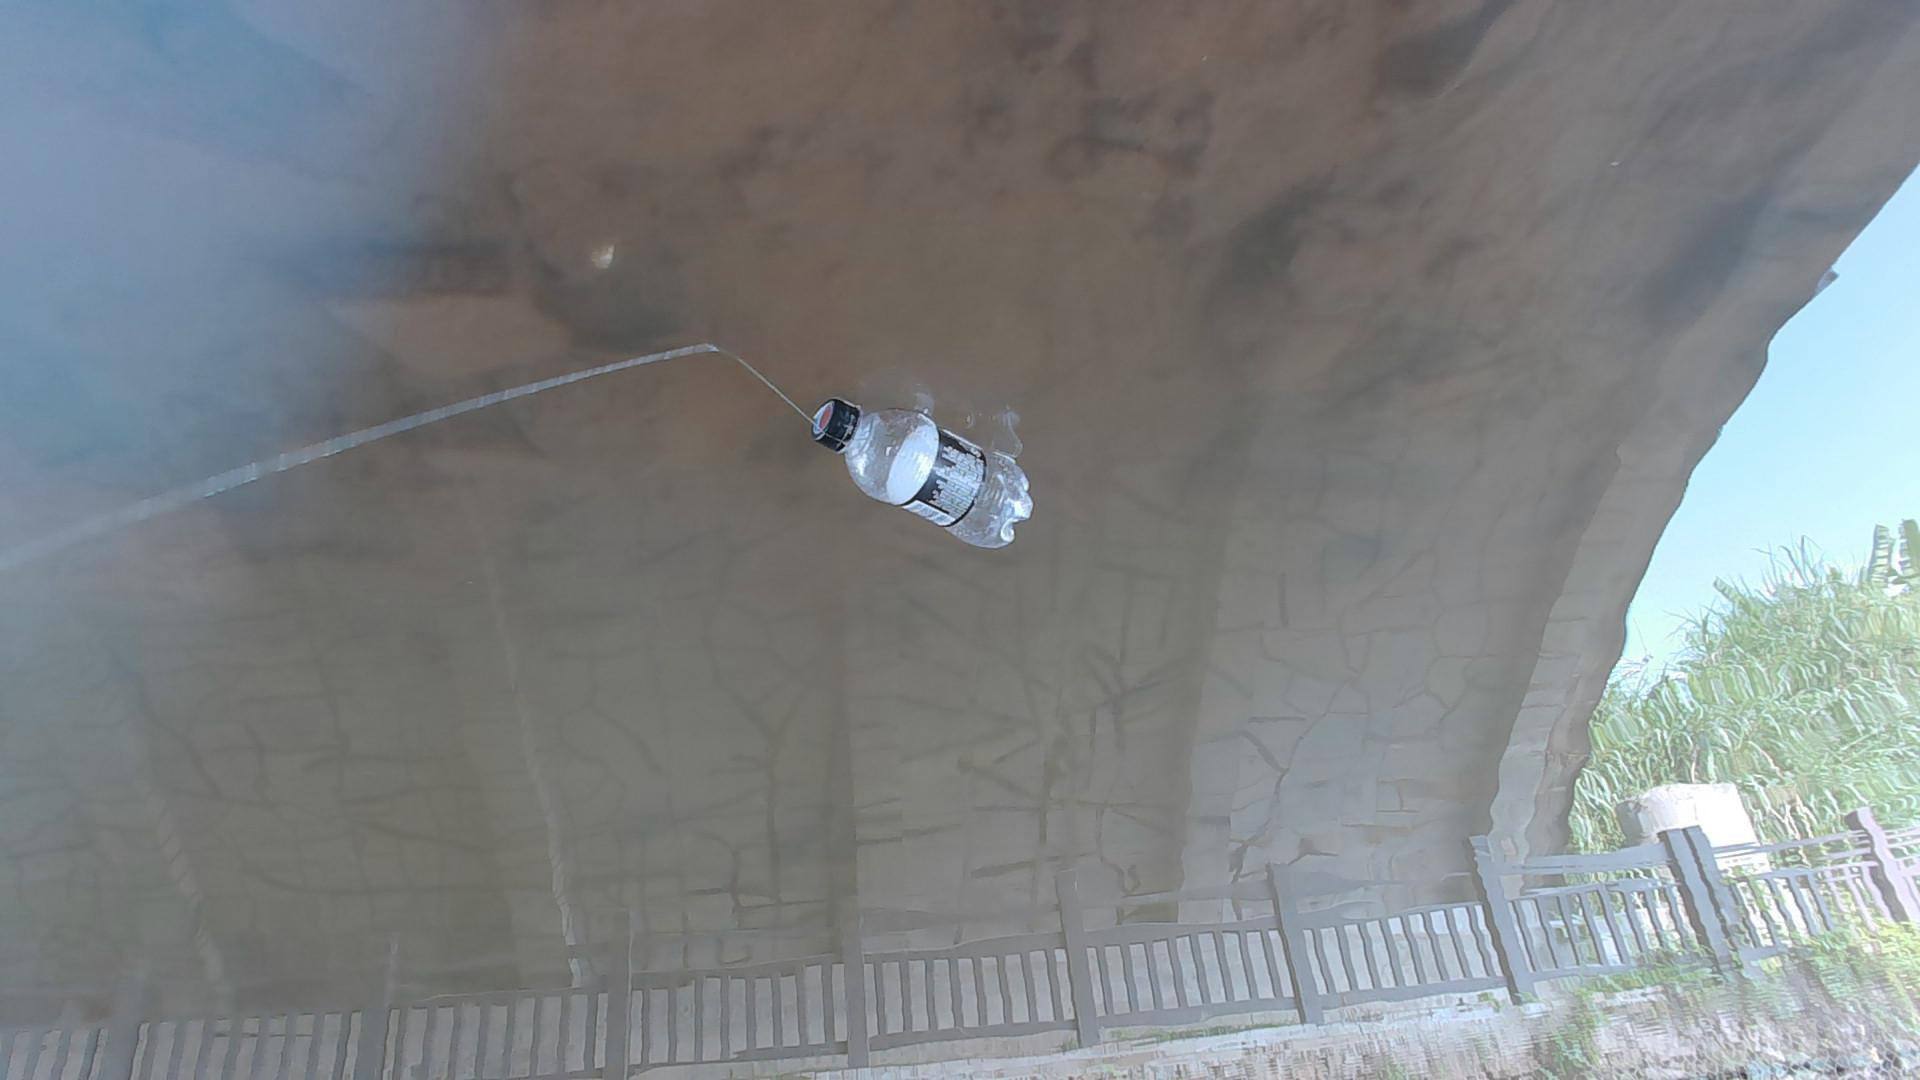Plastic: (804, 392, 1036, 559)
